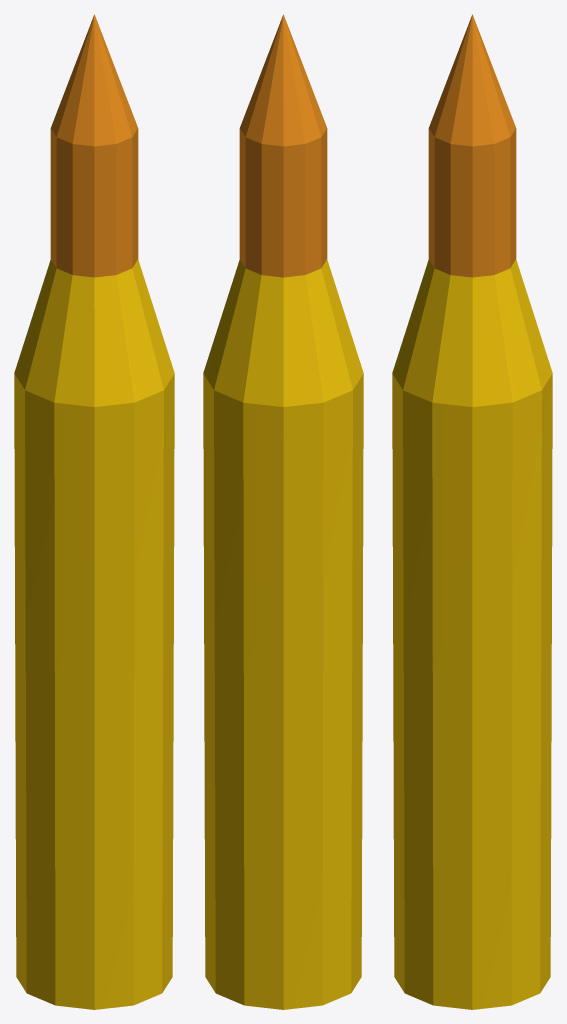
File: Rifle_Bullet.fbx
3 renders of one model, left to right at view 1: azimuth 30°, elevation 25°; view 2: azimuth 150°, elevation 25°; view 3: azimuth 270°, elevation 25°, orthographic.
Parts seen in each view (by area): view 1: Cylinder; view 2: Cylinder; view 3: Cylinder.
Part boxes in pixels (x1,y1,x2,y2): Cylinder: (14,14,174,1009); Cylinder: (203,14,363,1009); Cylinder: (392,14,552,1009).
Size of the model in its own units: 25.11 by 166 by 25.11.
